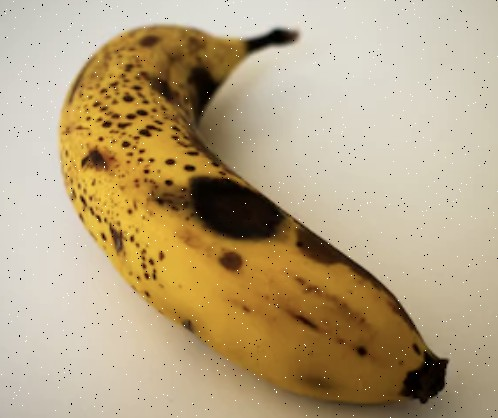rotten_banana: (59, 25, 451, 410)
